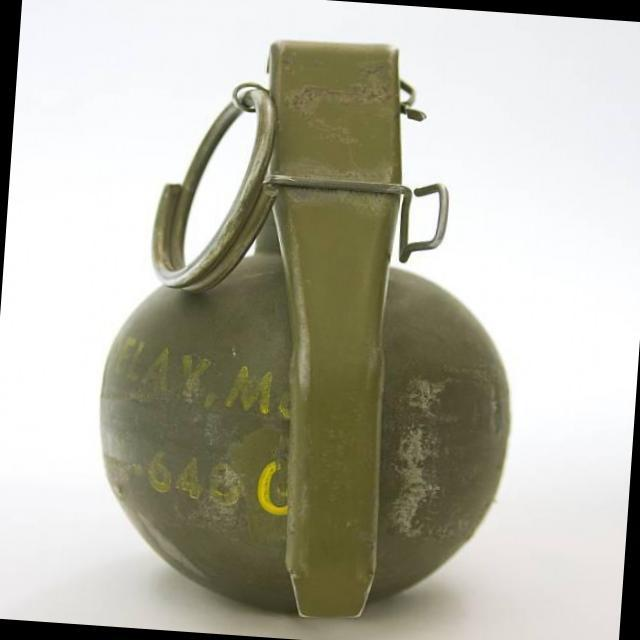grenade: (72, 5, 542, 632)
